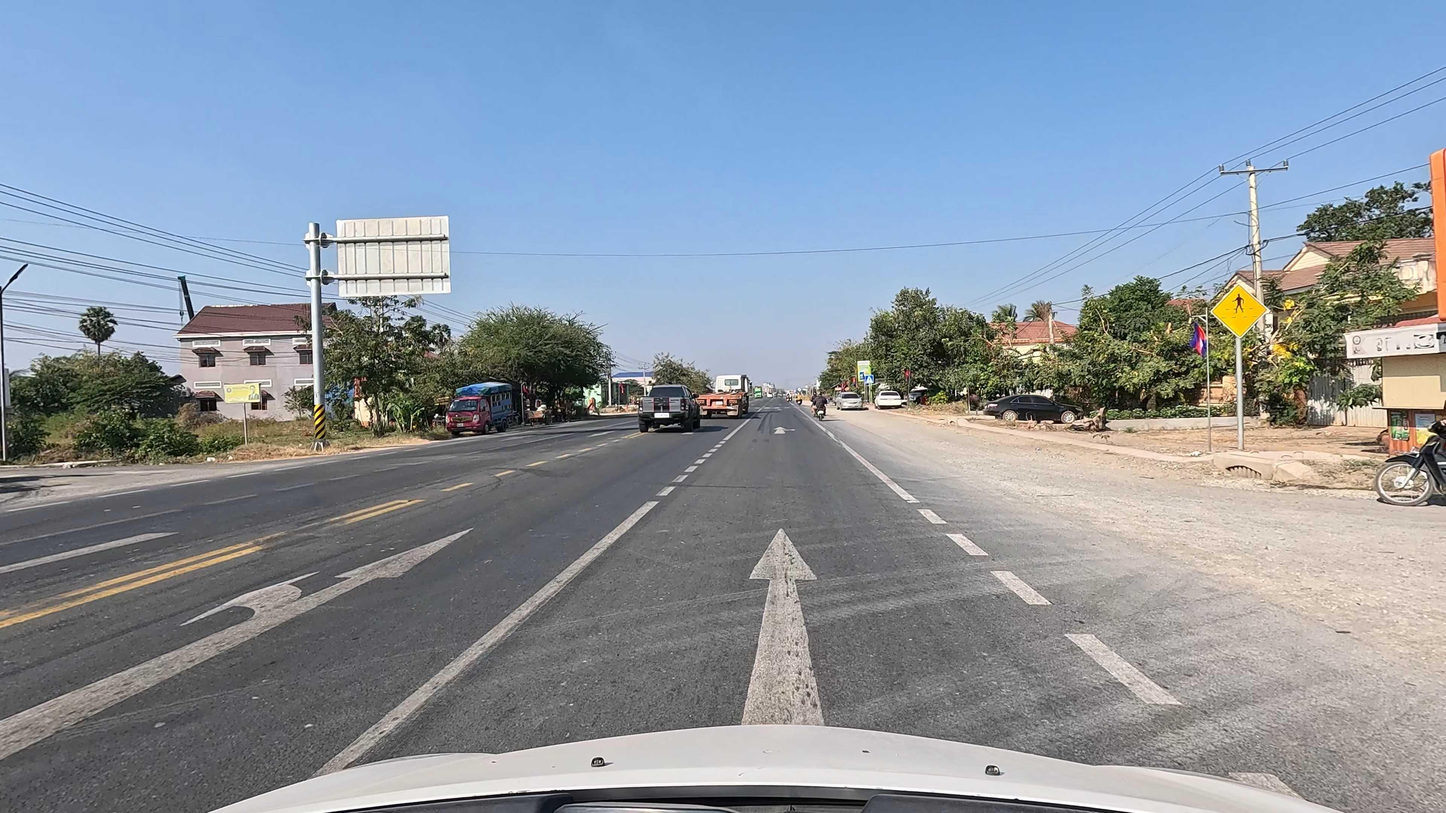pedestrian_crossing: (1210, 283, 1268, 339), (865, 374, 874, 385)
